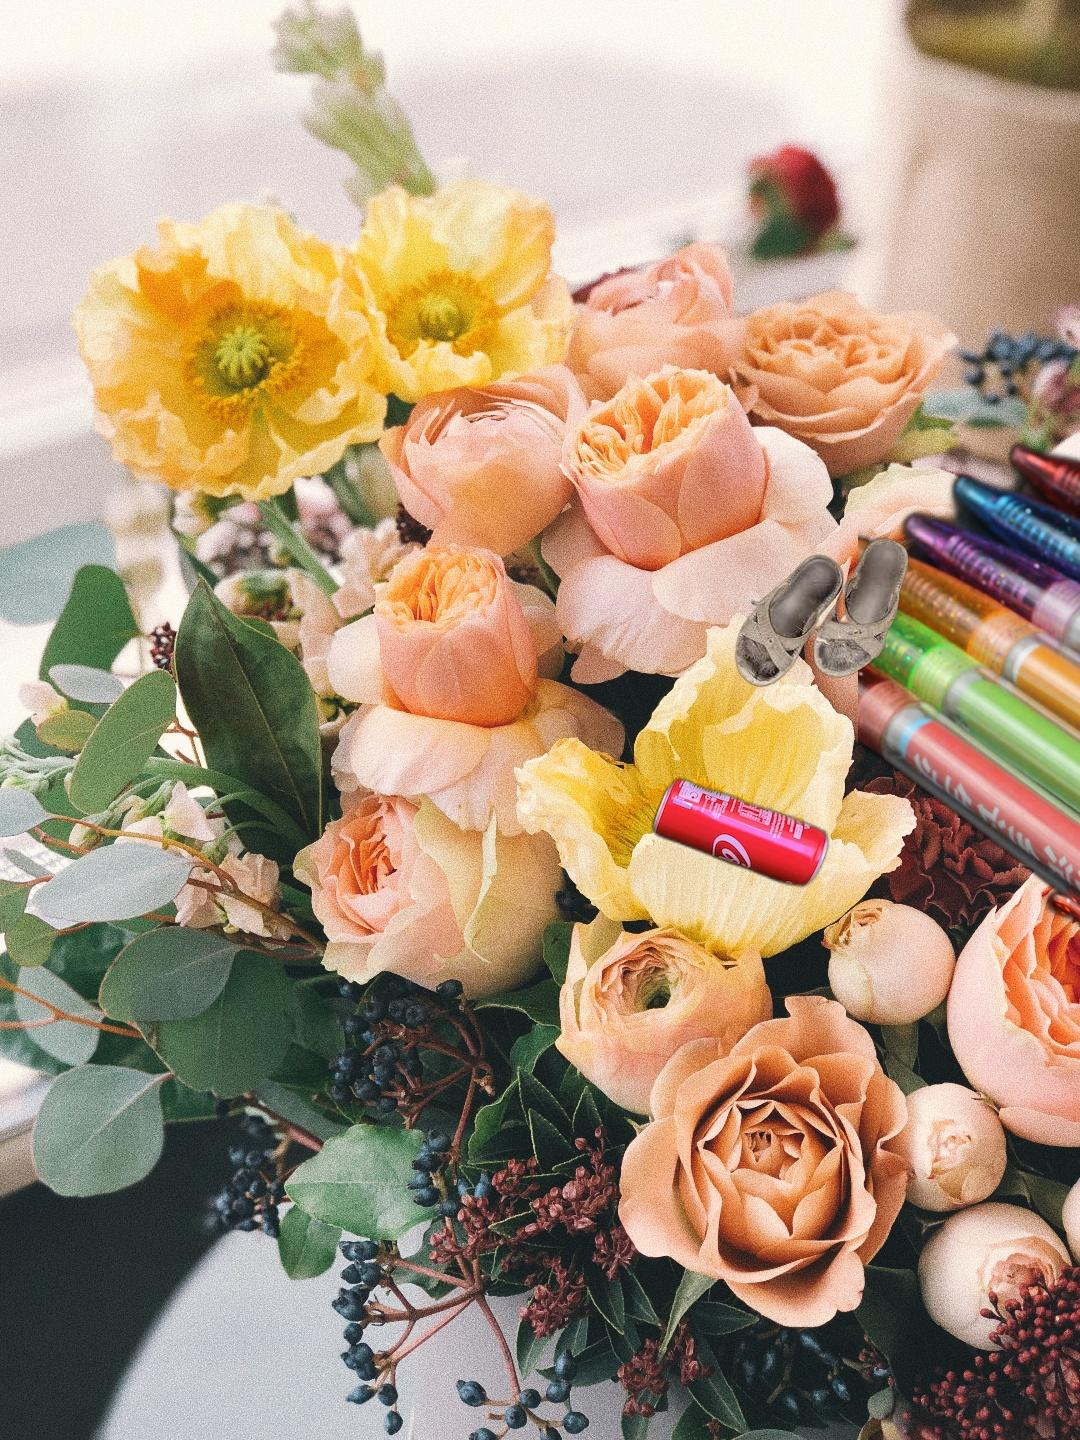metal-cans: (649, 772, 833, 892)
penholder: (858, 437, 1080, 1081)
shoes: (732, 537, 912, 691)
